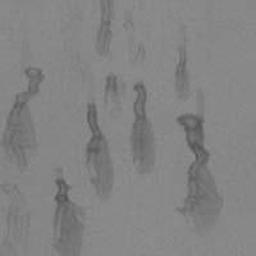Water spot: (170, 90, 227, 238), (102, 69, 157, 178), (0, 65, 45, 174), (83, 95, 116, 204), (0, 175, 44, 256), (49, 165, 88, 256), (93, 0, 118, 64), (122, 6, 146, 72), (172, 23, 192, 102)
